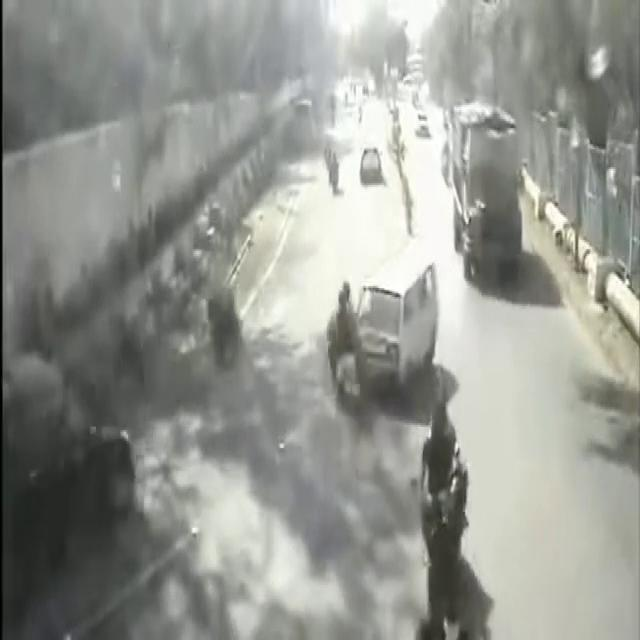accident: (325, 221, 450, 409)
